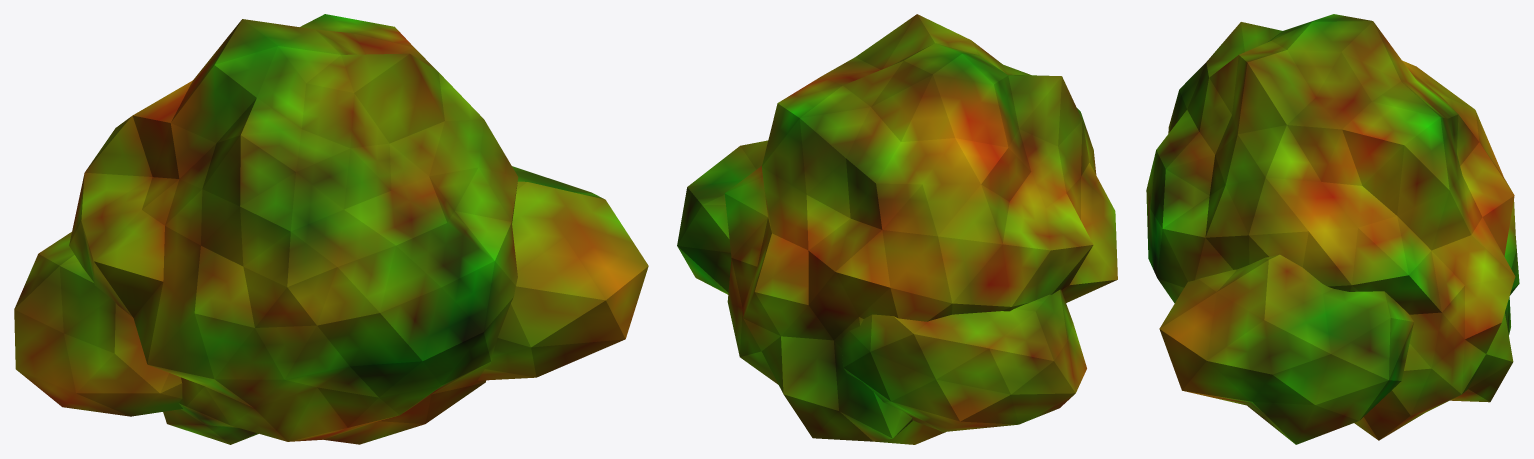
The model's file is 中型金矿_02_棱柱.fbx.
3 renders of one model, left to right at view 1: azimuth 30°, elevation 25°; view 2: azimuth 150°, elevation 25°; view 3: azimuth 270°, elevation 25°, orthographic. The views are drawn at different scales.
Visible parts, largest first — view 1: GoldOre_Medium_02; view 2: GoldOre_Medium_02; view 3: GoldOre_Medium_02.
Boxes of the visible parts, bbox=[...] form: GoldOre_Medium_02: bbox=[14, 14, 648, 444]; GoldOre_Medium_02: bbox=[677, 14, 1117, 444]; GoldOre_Medium_02: bbox=[1146, 14, 1519, 444].
Bounding box in the file's own units: 0.78 × 0.6 × 0.5633.
